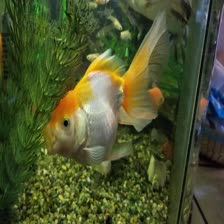Cuezo: (45, 11, 170, 178)
